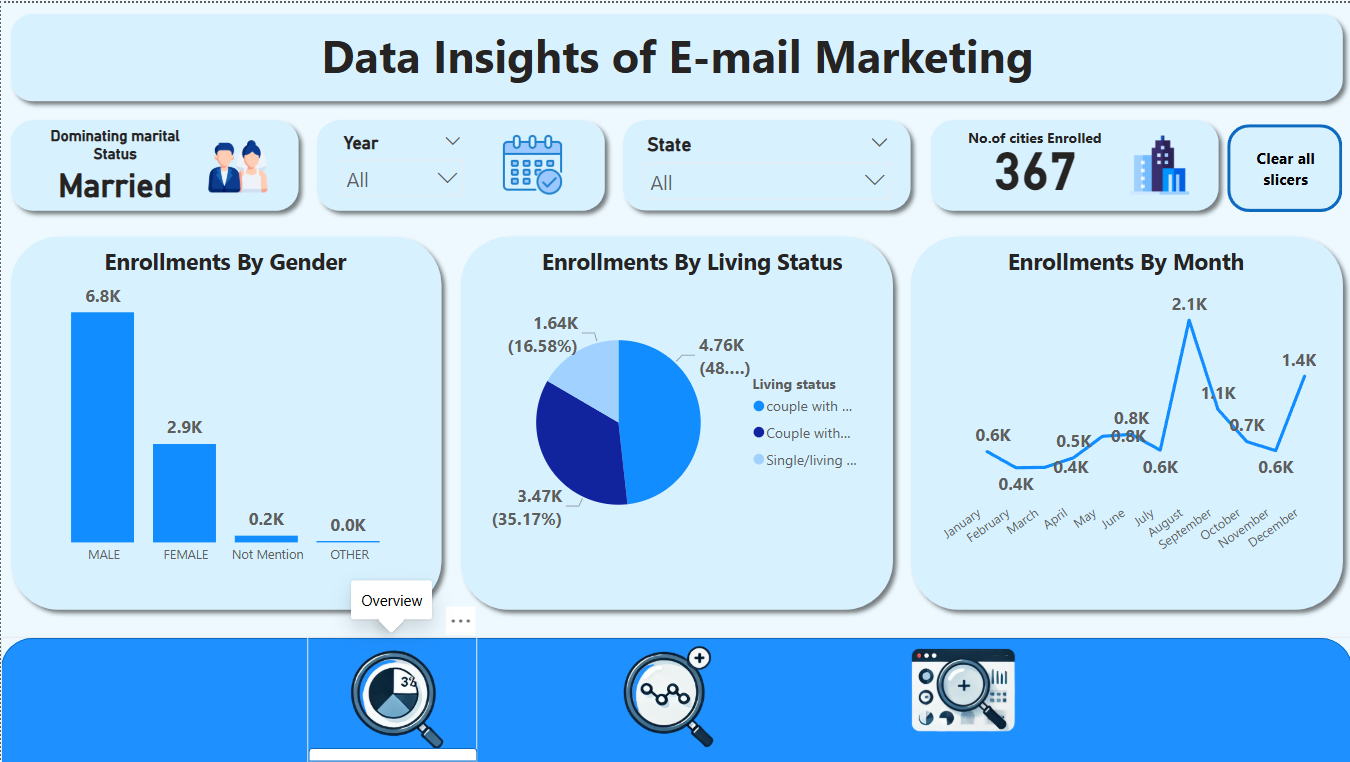

This screenshot's page, from the dashboard's own definition file:
{"tool":"powerbi","page":{"name":"Overview","canvas":[1280,720],"ordinal":0},"visuals":[{"type":"shape","box":[0,1.4,1280.3,100.9],"z":0,"group":"g3"},{"type":"group","id":"g1","title":"Group 2","box":[290.4,102.3,291.8,103.6],"z":0,"group":"g5"},{"type":"group","id":"g2","title":"Group 6","box":[426.3,211.8,427.7,372],"z":0},{"type":"shape","box":[0,601.6,1280.3,118.6],"z":0,"group":"g13"},{"type":"shape","box":[0,102.3,290.9,104],"z":500,"group":"g4"},{"type":"shape","box":[290.4,102.3,290.9,104],"z":500,"group":"g1"},{"type":"shape","box":[871.2,102.3,290.9,104],"z":500,"group":"g6"},{"type":"group","id":"g3","title":"Group 1","box":[0,1.4,1280.3,100.9],"z":1000},{"type":"shape","box":[580.8,102.3,290.4,103.6],"z":1000,"group":"g7"},{"type":"slicer","title":"Year","fields":{"Values":["TBL_CustomerProfileData.Enrolled on .Variation.Date Hierarchy.Year"]},"box":[312.1,117.3,136.5,72.4],"z":1000,"group":"g5"},{"type":"shape","box":[0,211.8,426.3,372],"z":1000,"group":"g9"},{"type":"shape","box":[426.3,211.8,427.7,372],"z":1000,"group":"g10"},{"type":"shape","box":[852.6,211.8,427.7,372],"z":1000,"group":"g12"},{"type":"image","box":[290.4,600.9,160.9,120],"z":1000,"group":"g13"},{"type":"textbox","box":[31.4,15.9,1220.3,70.9],"z":1500,"group":"g3"},{"type":"pieChart","fields":{"Category":["TBL_CustomerProfileData.Living status"],"Y":["CountNonNull(TBL_CustomerProfileData.Id)"]},"box":[453.9,255.9,372.2,283.6],"z":2000},{"type":"image","box":[552.4,601.4,165,118.6],"z":2000,"group":"g13"},{"type":"group","id":"g4","title":"Group 2","box":[0,102.3,290.9,104],"z":3000},{"type":"image","box":[818.1,601.3,186.8,117.3],"z":3000,"group":"g13"},{"type":"group","id":"g5","title":"Group 3","box":[290.4,102.3,291.8,103.6],"z":4000},{"type":"group","id":"g6","title":"Group 2","box":[871.2,102.3,290.4,103.6],"z":4000,"group":"g8"},{"type":"group","id":"g7","title":"Group 4","box":[580.8,102.3,290.4,103.6],"z":5000},{"type":"group","id":"g8","title":"Group 7","box":[871.2,102.3,290.4,103.6],"z":6000},{"type":"card","title":"Dominating marital Status","fields":{"Values":["Min(TBL_CustomerProfileData.MaritalStatus)"]},"box":[22.3,117.3,171.4,72.4],"z":6000,"group":"g4"},{"type":"card","title":"No.of cities Enrolled","fields":{"Values":["Count(TBL_CustomerProfileData.City)"]},"box":[889,136.8,181.1,57.1],"z":6000,"group":"g8"},{"type":"textbox","box":[884.8,114.5,189.5,27.9],"z":7000,"group":"g8"},{"type":"slicer","fields":{"Values":["TBL_CustomerProfileData.State"]},"box":[599.2,118.6,253.5,71],"z":7000,"group":"g7"},{"type":"group","id":"g9","title":"Group 5","box":[0,211.8,426.3,372],"z":7000},{"type":"group","id":"g10","title":"Group 5","box":[426.3,211.8,427.7,372],"z":8000,"group":"g2"},{"type":"group","id":"g11","title":"Group 6","box":[852.6,211.8,427.7,372],"z":8000},{"type":"group","id":"g12","title":"Group 5","box":[852.6,211.8,427.7,372],"z":8000,"group":"g11"},{"type":"textbox","box":[72.2,224.4,280.6,42.3],"z":9000},{"type":"textbox","box":[925,224.5,281.5,42.3],"z":9000,"group":"g11"},{"type":"textbox","box":[497.6,225.3,314.6,42.4],"z":9000,"group":"g2"},{"type":"shape","box":[1161.7,114.5,109.1,83.2],"z":10000},{"type":"columnChart","fields":{"Y":["CountNonNull(TBL_CustomerProfileData.Id)"],"Category":["TBL_CustomerProfileData.GenderCode"]},"box":[31.2,252.3,366.5,288.8],"z":10001,"group":"g9"},{"type":"lineChart","fields":{"Category":["TBL_CustomerProfileData.Enrolled on .Variation.Date Hierarchy.Month"],"Y":["CountNonNull(TBL_CustomerProfileData.Id)"]},"box":[883.9,252.3,367.7,288.8],"z":10001,"group":"g12"},{"type":"actionButton","box":[1178,126.8,77.7,60],"z":11000},{"type":"group","id":"g13","title":"Group 8","box":[0,600.9,1280.3,120],"z":12000},{"type":"shape","box":[291.4,706.8,160,12.9],"z":12001,"group":"g13"},{"type":"image","box":[454.2,118.4,100.3,69.7],"z":13000},{"type":"image","box":[176.9,121.9,96.1,65.5],"z":14000},{"type":"image","box":[1050.4,121.2,94.7,65.5],"z":15000}]}

Visuals, with their boxes in screenshot pixels (x1, y1, x2, y2), scaled from the page's 1280x720 canvas onto the 1350x762 screenshot:
shape: bbox=(0, 1, 1349, 108)
"Group 2" group: bbox=(306, 108, 614, 218)
"Group 6" group: bbox=(450, 224, 901, 618)
shape: bbox=(0, 637, 1349, 761)
shape: bbox=(0, 108, 307, 218)
shape: bbox=(306, 108, 613, 218)
shape: bbox=(919, 108, 1226, 218)
"Group 1" group: bbox=(0, 1, 1349, 108)
shape: bbox=(613, 108, 919, 218)
"Year" slicer: bbox=(329, 124, 473, 201)
shape: bbox=(0, 224, 450, 618)
shape: bbox=(450, 224, 901, 618)
shape: bbox=(899, 224, 1349, 618)
image: bbox=(306, 636, 476, 761)
textbox: bbox=(33, 17, 1320, 92)
pieChart - TBL_CustomerProfileData.Living status x CountNonNull(TBL_CustomerProfileData.Id): bbox=(479, 271, 871, 571)
image: bbox=(583, 636, 757, 761)
"Group 2" group: bbox=(0, 108, 307, 218)
image: bbox=(863, 636, 1060, 761)
"Group 3" group: bbox=(306, 108, 614, 218)
"Group 2" group: bbox=(919, 108, 1225, 218)
"Group 4" group: bbox=(613, 108, 919, 218)
"Group 7" group: bbox=(919, 108, 1225, 218)
"Dominating marital Status" card: bbox=(24, 124, 204, 201)
"No.of cities Enrolled" card: bbox=(938, 145, 1129, 205)
textbox: bbox=(933, 121, 1133, 151)
slicer - TBL_CustomerProfileData.State: bbox=(632, 126, 899, 201)
"Group 5" group: bbox=(0, 224, 450, 618)
"Group 5" group: bbox=(450, 224, 901, 618)
"Group 6" group: bbox=(899, 224, 1349, 618)
"Group 5" group: bbox=(899, 224, 1349, 618)
textbox: bbox=(76, 237, 372, 282)
textbox: bbox=(976, 238, 1272, 282)
textbox: bbox=(525, 238, 857, 283)
shape: bbox=(1225, 121, 1340, 209)
columnChart - CountNonNull(TBL_CustomerProfileData.Id) x TBL_CustomerProfileData.GenderCode: bbox=(33, 267, 419, 573)
lineChart - TBL_CustomerProfileData.Enrolled on .Variation.Date Hierarchy.Month x CountNonNull(TBL_CustomerProfileData.Id): bbox=(932, 267, 1320, 573)
actionButton: bbox=(1242, 134, 1324, 198)
"Group 8" group: bbox=(0, 636, 1349, 761)
shape: bbox=(307, 748, 476, 761)
image: bbox=(479, 125, 585, 199)
image: bbox=(187, 129, 288, 198)
image: bbox=(1108, 128, 1208, 198)
